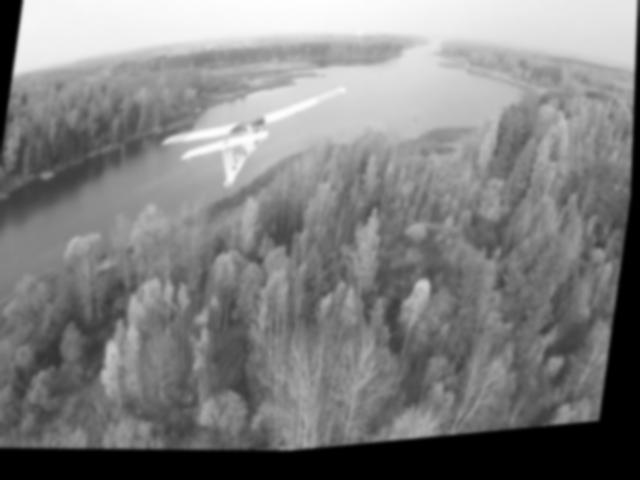hedef: (155, 67, 352, 219)
